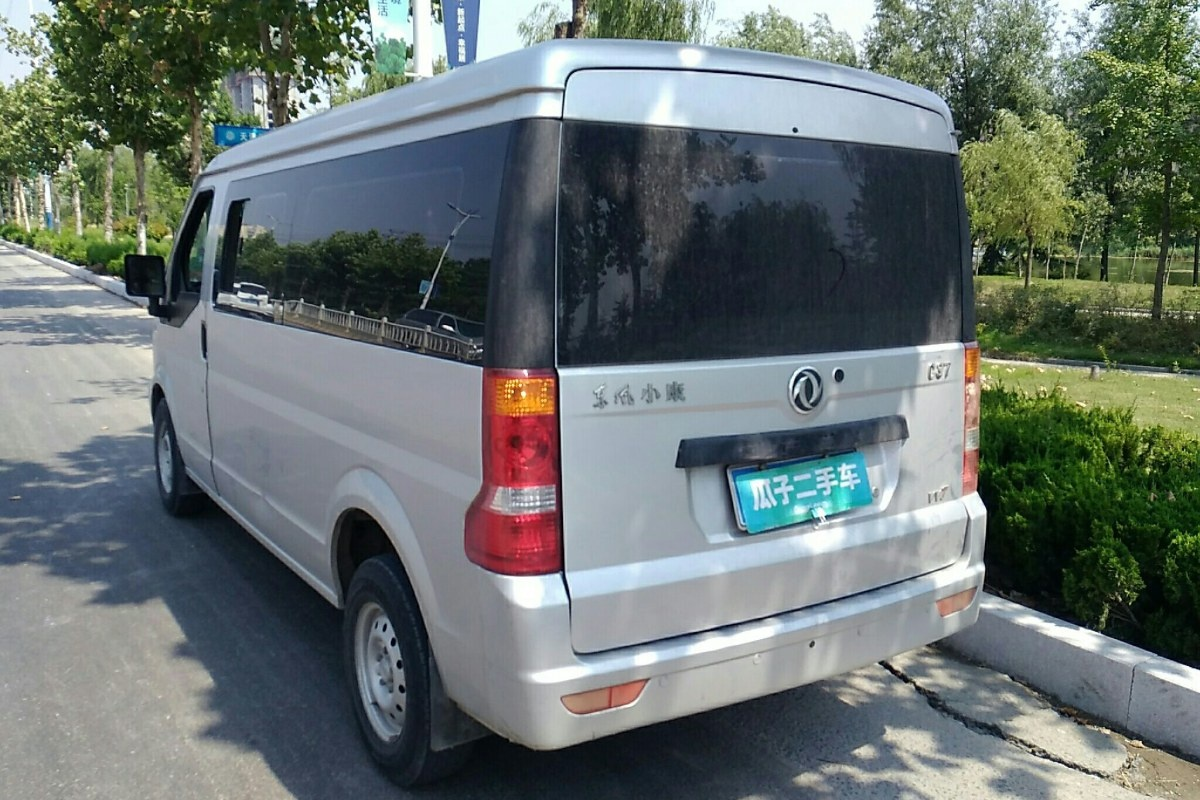minibus: (151, 30, 996, 767)
